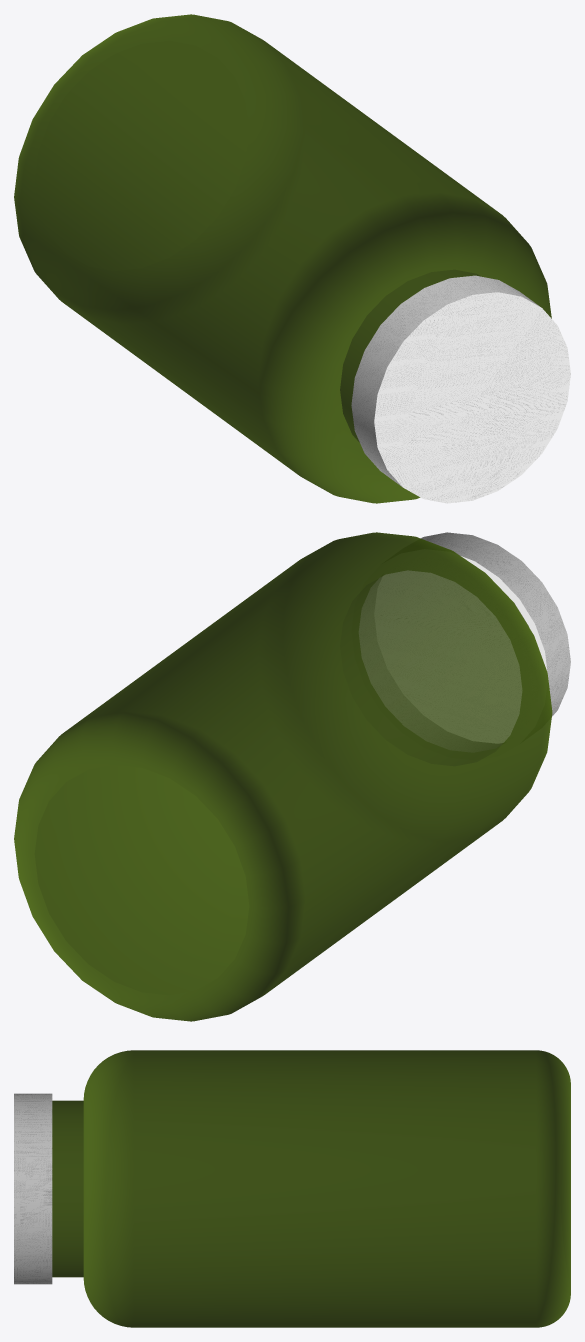
File: model_align.obj
The picture shows the model from 3 angles, top to bottom: view 1: azimuth 30°, elevation 25°; view 2: azimuth 150°, elevation 25°; view 3: azimuth 270°, elevation 25°; orthographic projection. The views are drawn at different scales.
Visible parts, largest first — view 1: mesh1_mesh1-geometry; view 2: mesh1_mesh1-geometry; view 3: mesh1_mesh1-geometry.
Boxes of the visible parts, box(x1,y1,x2,y2) form: mesh1_mesh1-geometry: box(14, 14, 570, 503); mesh1_mesh1-geometry: box(14, 532, 570, 1021); mesh1_mesh1-geometry: box(14, 1050, 570, 1327).
Bounding box in the file's own units: 0.1202 × 0.1202 × 0.2405.
